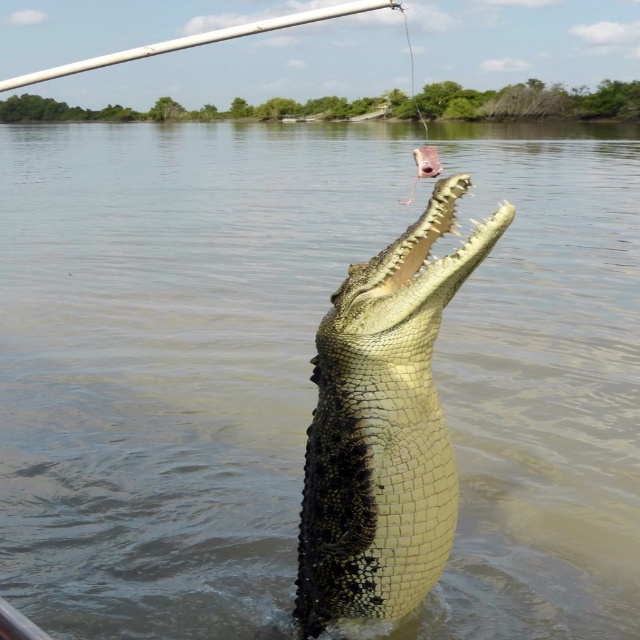Crocodile: (291, 173, 516, 640)
